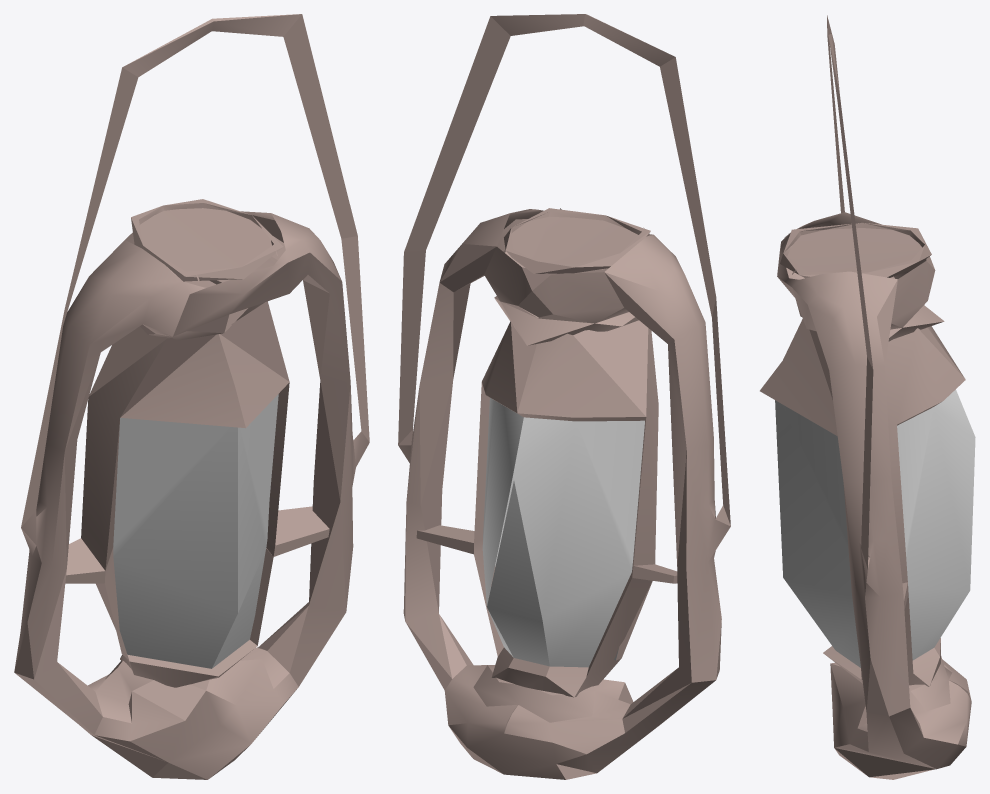
The model's file is lantern.fbx.
The picture shows the model from 3 angles, left to right: view 1: azimuth 30°, elevation 25°; view 2: azimuth 150°, elevation 25°; view 3: azimuth 270°, elevation 25°; orthographic projection. The views are drawn at different scales.
Parts seen in each view (by area): view 1: lantern; view 2: lantern; view 3: lantern.
Part boxes in pixels (bbox=[...]): lantern: bbox=[14, 14, 369, 779]; lantern: bbox=[398, 14, 730, 779]; lantern: bbox=[760, 15, 975, 779].
Bounding box in the file's own units: 62.76 × 132 × 35.63.
2 materials, 1 textured.
